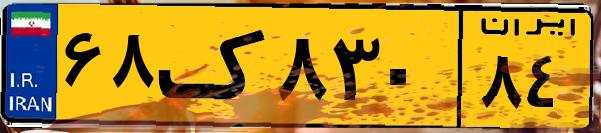0: (385, 28, 445, 110)
3: (330, 28, 385, 110)
4: (525, 38, 570, 115)
6: (57, 26, 110, 100)
8: (270, 28, 330, 110), (475, 38, 525, 113), (110, 28, 158, 98)
ک: (158, 12, 270, 120)
